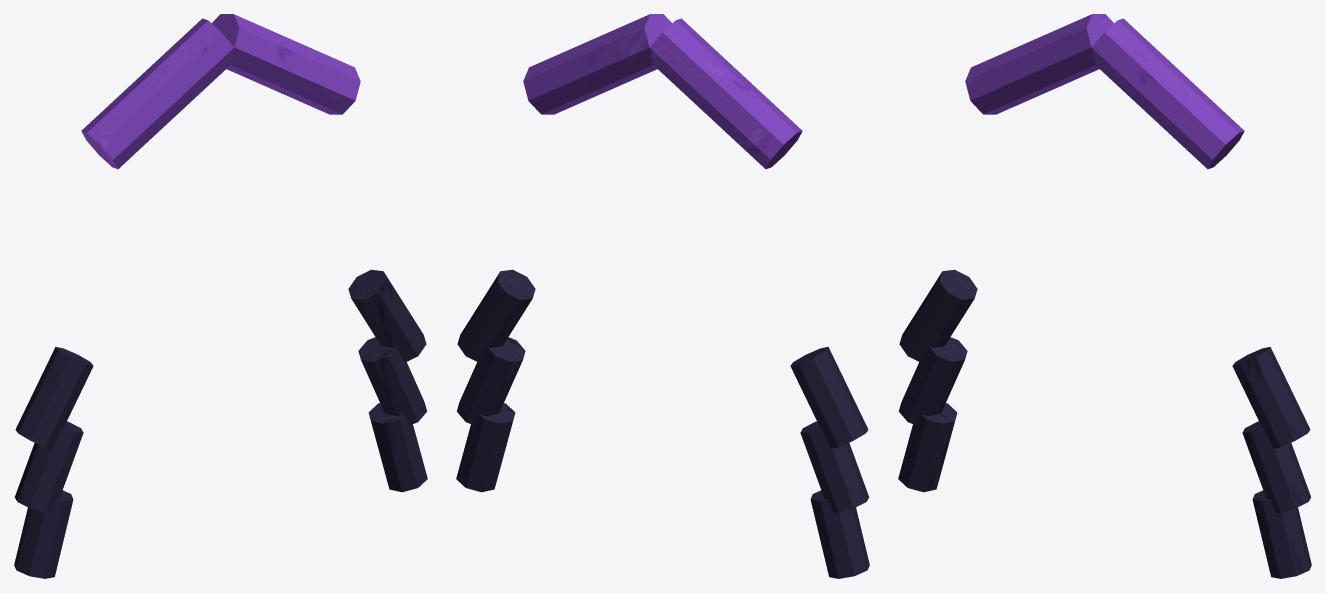
The model's file is veil_shard_arch_lod1.glb.
3 views of the same model, side by side, from view 1: azimuth 30°, elevation 25°; view 2: azimuth 150°, elevation 25°; view 3: azimuth 330°, elevation 25° (orthographic).
Parts seen in each view (by area): view 1: rift_6, rift_7, obsidian_2, obsidian_5, obsidian_1, obsidian_4, obsidian_0, obsidian_3; view 2: rift_6, rift_7, obsidian_2, obsidian_5, obsidian_1, obsidian_4, obsidian_0, obsidian_3; view 3: rift_7, rift_6, obsidian_5, obsidian_2, obsidian_4, obsidian_1, obsidian_3, obsidian_0.
Part boxes in pixels (bbox=[...]): rift_6: bbox=[81, 18, 234, 169]; rift_7: bbox=[212, 14, 360, 114]; obsidian_2: bbox=[15, 346, 93, 448]; obsidian_5: bbox=[348, 269, 426, 362]; obsidian_1: bbox=[14, 421, 83, 512]; obsidian_4: bbox=[358, 337, 427, 425]; obsidian_0: bbox=[14, 490, 73, 578]; obsidian_3: bbox=[368, 403, 427, 492]; rift_6: bbox=[649, 18, 802, 169]; rift_7: bbox=[523, 14, 671, 114]; obsidian_2: bbox=[790, 346, 868, 448]; obsidian_5: bbox=[457, 269, 535, 362]; obsidian_1: bbox=[800, 421, 869, 512]; obsidian_4: bbox=[456, 337, 525, 425]; obsidian_0: bbox=[810, 490, 869, 578]; obsidian_3: bbox=[456, 403, 515, 492]; rift_7: bbox=[1091, 18, 1244, 169]; rift_6: bbox=[965, 14, 1113, 114]; obsidian_5: bbox=[1232, 346, 1310, 448]; obsidian_2: bbox=[899, 269, 977, 362]; obsidian_4: bbox=[1242, 421, 1311, 512]; obsidian_1: bbox=[898, 337, 967, 425]; obsidian_3: bbox=[1252, 490, 1311, 578]; obsidian_0: bbox=[898, 403, 957, 492].
Size of the model in its own units: 8.77 by 10.52 by 1.
Materials: 2 (2 with a texture image).
